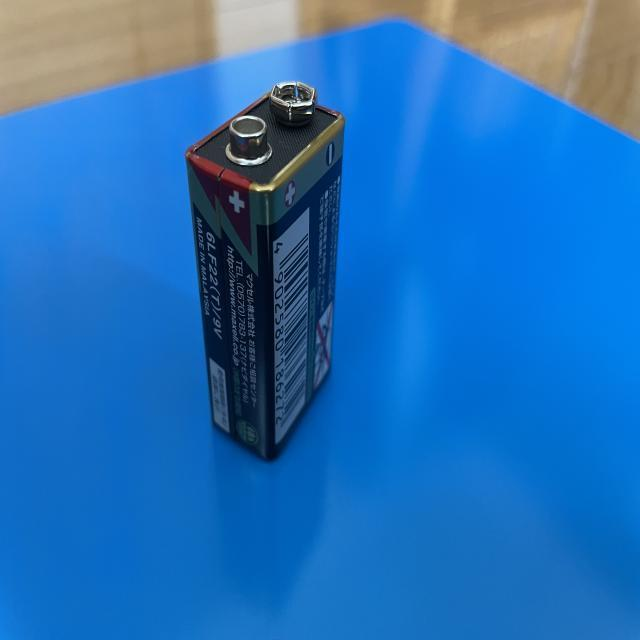9V: (182, 78, 346, 462)
